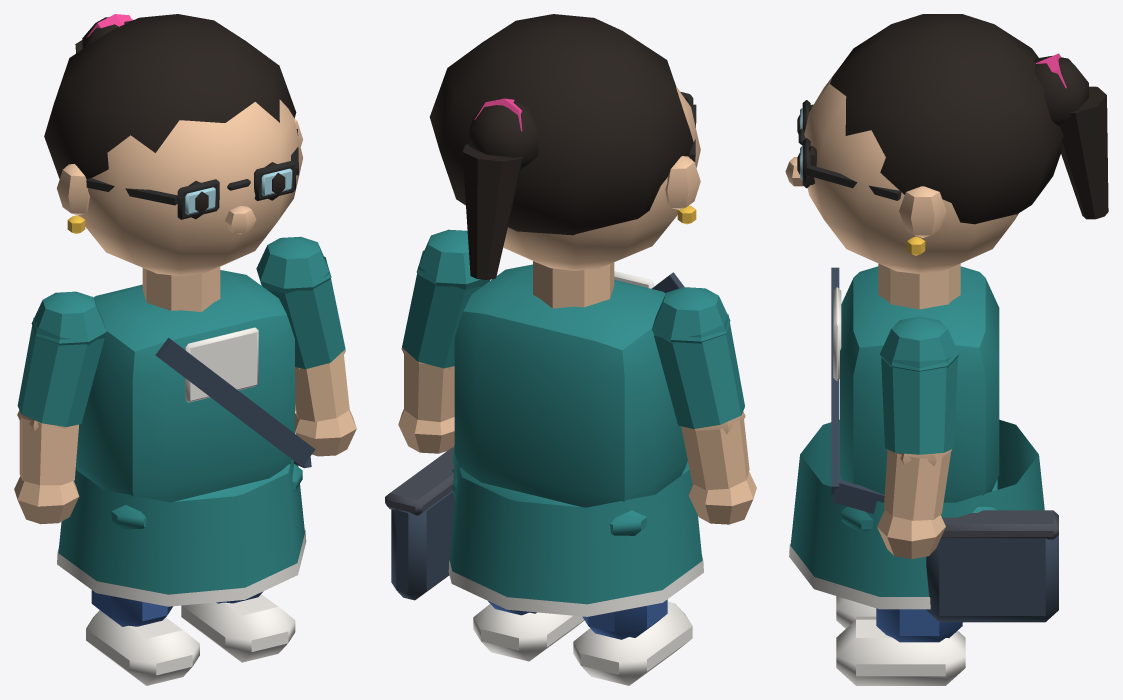
The model's file is trav_techie.glb.
3 renders of one model, left to right at view 1: azimuth 30°, elevation 25°; view 2: azimuth 150°, elevation 25°; view 3: azimuth 270°, elevation 25°, orthographic. The views are drawn at different scales.
Parts seen in each view (by area): view 1: body, head, arm_r, arm_l, leg_r, leg_l; view 2: body, head, arm_r, arm_l, leg_r, leg_l; view 3: head, body, arm_l, leg_l, leg_r.
Part boxes in pixels (left/top/right/bottom): body: left=57, top=267, right=315, bottom=606; head: left=44, top=14, right=302, bottom=275; arm_r: left=14, top=291, right=106, bottom=524; arm_l: left=256, top=236, right=356, bottom=456; leg_r: left=86, top=590, right=199, bottom=685; leg_l: left=181, top=591, right=295, bottom=662; body: left=385, top=261, right=703, bottom=616; head: left=429, top=14, right=700, bottom=279; arm_r: left=652, top=287, right=756, bottom=524; arm_l: left=398, top=229, right=489, bottom=453; leg_r: left=573, top=599, right=692, bottom=685; leg_l: left=473, top=601, right=584, bottom=661; head: left=785, top=14, right=1108, bottom=273; body: left=789, top=263, right=1058, bottom=622; arm_l: left=877, top=316, right=959, bottom=559; leg_l: left=836, top=608, right=965, bottom=685; leg_r: left=836, top=596, right=876, bottom=628.
Size of the model in its own units: 0.5801 by 1.01 by 0.4722.
Materials: 1 (1 with a texture image).
